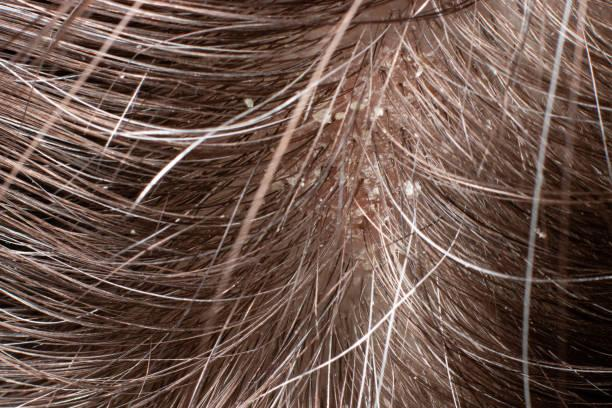dandruff: (402, 41, 435, 104), (278, 168, 338, 196), (524, 219, 559, 250), (353, 158, 389, 186), (306, 104, 337, 134), (364, 95, 389, 122), (117, 226, 148, 242), (402, 170, 414, 211), (112, 64, 132, 87), (238, 92, 258, 114), (216, 210, 228, 225)
